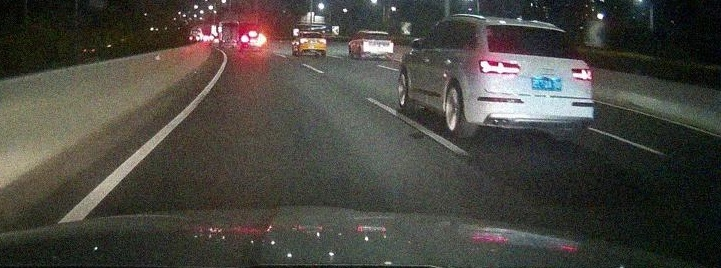L_light: (479, 59, 520, 75), (300, 39, 308, 43)
R_light: (571, 68, 593, 81), (319, 39, 326, 43)
T_light: (527, 28, 542, 32), (310, 33, 315, 35)
night-no: (476, 21, 594, 145), (300, 33, 327, 56)
